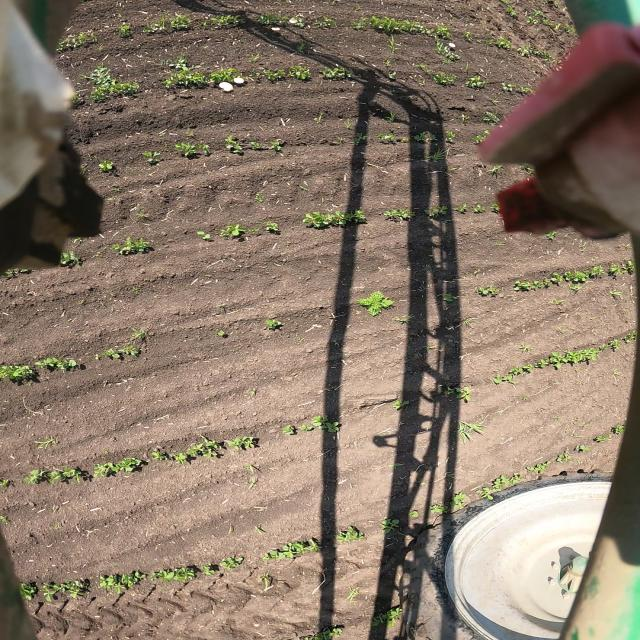plants: (39, 578, 105, 606), (296, 208, 372, 230), (94, 570, 154, 597), (260, 539, 326, 563), (224, 133, 289, 157), (184, 434, 234, 464), (17, 466, 86, 487), (88, 456, 152, 477), (542, 346, 600, 368), (174, 13, 244, 31), (350, 290, 399, 315), (90, 83, 150, 101), (33, 354, 84, 375), (94, 344, 153, 362), (161, 69, 210, 90), (416, 64, 460, 87), (370, 17, 422, 36), (466, 32, 515, 52), (220, 434, 272, 452), (147, 446, 196, 465), (154, 566, 204, 584), (109, 238, 158, 256), (170, 139, 212, 160), (448, 419, 488, 441), (366, 606, 405, 628), (55, 30, 95, 51), (211, 66, 254, 84), (466, 282, 502, 302), (556, 270, 597, 287), (300, 626, 349, 640), (333, 525, 367, 544), (380, 207, 419, 223), (433, 40, 464, 60), (418, 148, 456, 164), (498, 80, 536, 96), (508, 360, 548, 375), (316, 66, 358, 80), (311, 416, 350, 431), (304, 13, 338, 30), (376, 516, 404, 536), (507, 280, 553, 292), (276, 421, 315, 435), (607, 263, 640, 279), (85, 68, 118, 84), (217, 555, 248, 572), (452, 384, 478, 404), (421, 203, 451, 220), (408, 130, 442, 145), (383, 38, 400, 68), (488, 372, 521, 387), (255, 66, 288, 81), (494, 0, 520, 19), (425, 23, 457, 38), (255, 318, 289, 332), (55, 251, 83, 268), (346, 586, 370, 605), (140, 18, 170, 33), (519, 45, 551, 59), (19, 580, 41, 600), (529, 462, 562, 475), (389, 396, 416, 411), (256, 11, 283, 26), (289, 42, 316, 57), (572, 442, 601, 455), (457, 316, 482, 331), (448, 493, 470, 510), (126, 328, 154, 341), (469, 128, 489, 146), (554, 21, 578, 36), (529, 8, 550, 25), (481, 111, 503, 127), (435, 290, 460, 304), (112, 23, 135, 38), (515, 343, 543, 355), (139, 152, 163, 166), (288, 68, 316, 80), (488, 475, 510, 490), (220, 223, 247, 235), (307, 113, 330, 127), (170, 55, 193, 69), (132, 210, 156, 223), (30, 440, 58, 451), (287, 13, 307, 28), (8, 268, 35, 279), (96, 160, 123, 171), (606, 424, 632, 435), (384, 112, 406, 125), (484, 164, 510, 175), (351, 132, 369, 147), (260, 220, 284, 231), (430, 502, 450, 515), (214, 328, 232, 342), (196, 228, 217, 240), (475, 486, 493, 500), (488, 202, 508, 214), (422, 343, 446, 353), (376, 134, 400, 144), (352, 16, 369, 30), (246, 478, 265, 490), (590, 262, 604, 278), (255, 193, 275, 204), (554, 452, 576, 462), (250, 53, 272, 63), (441, 132, 461, 142), (453, 204, 471, 215), (70, 95, 88, 106), (200, 562, 214, 576), (588, 436, 612, 444), (467, 75, 483, 87), (248, 525, 267, 535), (623, 331, 640, 342), (407, 508, 422, 520), (606, 340, 622, 351), (610, 288, 627, 298), (507, 474, 528, 482), (550, 297, 566, 307), (393, 318, 419, 324), (470, 203, 484, 214), (331, 136, 348, 145), (241, 462, 254, 473), (457, 111, 468, 123), (546, 232, 561, 240), (343, 122, 352, 131), (491, 98, 500, 104)
